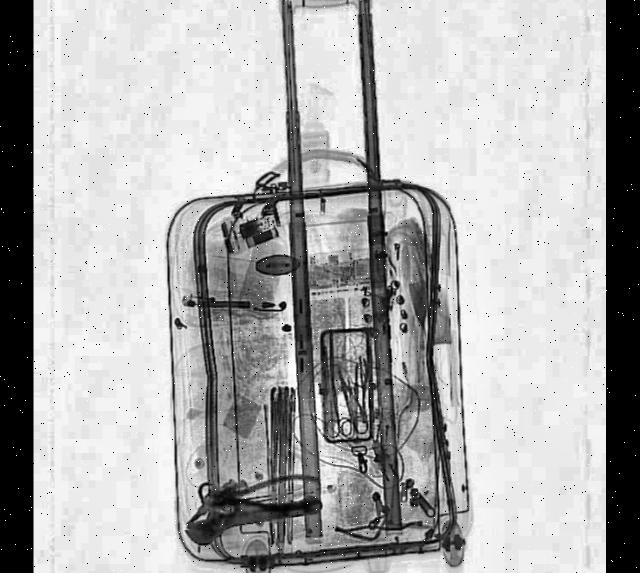Pliers: (212, 470, 317, 516)
Scissors: (319, 372, 350, 438)
Wrench: (181, 490, 322, 546)
